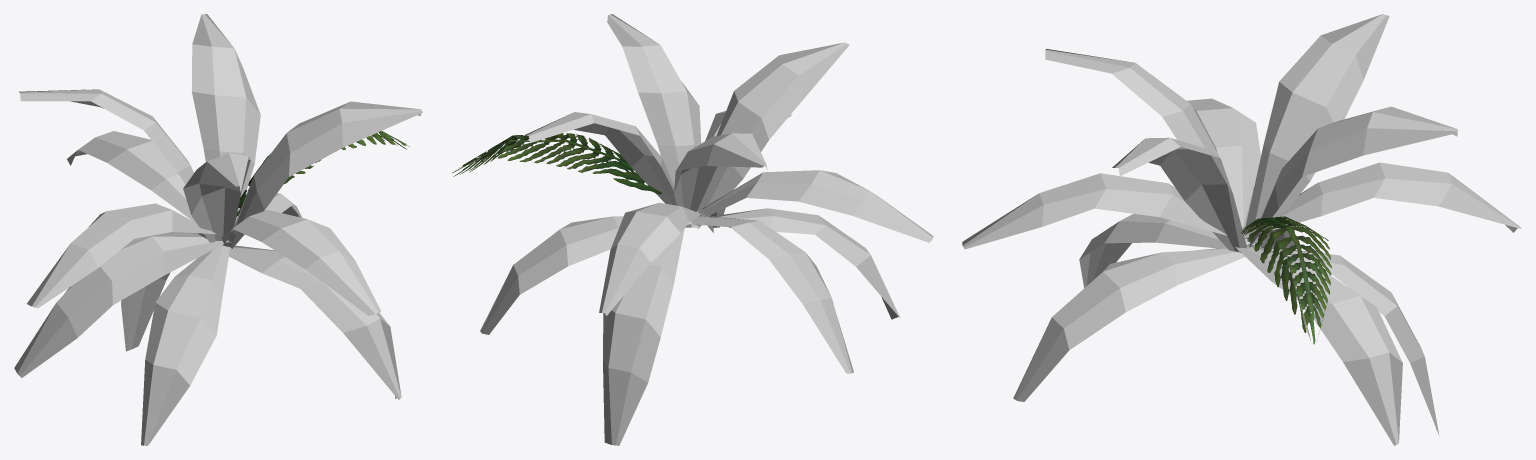
The model's file is leaves_palm_big.obj.
3 views of the same model, side by side, from view 1: azimuth 30°, elevation 25°; view 2: azimuth 150°, elevation 25°; view 3: azimuth 270°, elevation 25° (orthographic). The views are drawn at different scales.
Parts seen in each view (by area): view 1: Plane.012_Plane.014, Plane.009_Plane.011, Plane.006_Plane.007, Plane.005_Plane.006, Plane_Plane.001, Plane.002_Plane.003, Plane.010_Plane.012, Plane.001_Plane.002, Plane.007_Plane.008, Plane.004_Plane.005, Plane.011_Plane.013, Plane.003_Plane.004 (+1 smaller); view 2: Plane.011_Plane.013, Plane.007_Plane.008, Plane.005_Plane.006, Plane.002_Plane.003, Plane.009_Plane.011, Plane.008_Plane.009, Plane.001_Plane.002, Plane.003_Plane.004, Plane.006_Plane.007, Plane.004_Plane.005, Plane.012_Plane.014; view 3: Plane.004_Plane.005, Plane.010_Plane.012, Plane.008_Plane.009, Plane_Plane.001, Plane.001_Plane.002, Plane.006_Plane.007, Plane.005_Plane.006, Plane.003_Plane.004, Plane.002_Plane.003, Plane.007_Plane.008, Plane.012_Plane.014, Plane.011_Plane.013.
Boxes of the visible parts, <box> form: Plane.012_Plane.014: <box>141,245,229,445</box>; Plane.009_Plane.011: <box>14,232,229,377</box>; Plane.006_Plane.007: <box>191,14,260,223</box>; Plane.005_Plane.006: <box>229,101,422,248</box>; Plane_Plane.001: <box>221,210,381,315</box>; Plane.002_Plane.003: <box>27,203,216,308</box>; Plane.010_Plane.012: <box>227,245,401,399</box>; Plane.001_Plane.002: <box>67,131,195,222</box>; Plane.007_Plane.008: <box>183,153,250,246</box>; Plane.004_Plane.005: <box>19,89,193,184</box>; Plane.011_Plane.013: <box>121,232,197,351</box>; Plane.003_Plane.004: <box>236,131,409,216</box>; Plane.011_Plane.013: <box>603,229,684,445</box>; Plane.007_Plane.008: <box>696,42,849,228</box>; Plane.005_Plane.006: <box>607,14,701,185</box>; Plane.002_Plane.003: <box>701,170,933,242</box>; Plane.009_Plane.011: <box>690,216,853,373</box>; Plane.008_Plane.009: <box>480,216,691,334</box>; Plane.001_Plane.002: <box>599,203,700,315</box>; Plane.003_Plane.004: <box>452,133,661,194</box>; Plane.006_Plane.007: <box>524,112,676,205</box>; Plane.004_Plane.005: <box>674,133,767,211</box>; Plane.012_Plane.014: <box>710,208,900,319</box>; Plane.004_Plane.005: <box>1244,14,1389,244</box>; Plane.010_Plane.012: <box>1013,248,1245,401</box>; Plane.008_Plane.009: <box>1235,243,1402,445</box>; Plane_Plane.001: <box>962,173,1227,249</box>; Plane.001_Plane.002: <box>1243,162,1521,238</box>; Plane.006_Plane.007: <box>1249,106,1457,248</box>; Plane.005_Plane.006: <box>1112,137,1247,252</box>; Plane.003_Plane.004: <box>1240,216,1331,344</box>; Plane.002_Plane.003: <box>1187,98,1260,227</box>; Plane.007_Plane.008: <box>1045,49,1239,252</box>; Plane.012_Plane.014: <box>1079,213,1226,288</box>; Plane.011_Plane.013: <box>1252,245,1439,435</box>.
Bounding box in the file's own units: 6.01 × 4.05 × 5.87.
